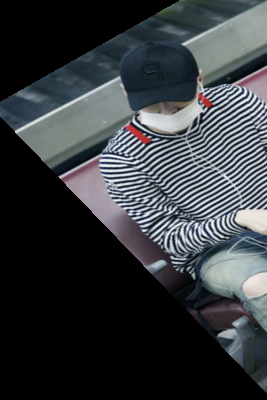mask_weared_incorrect: (111, 38, 220, 137)
